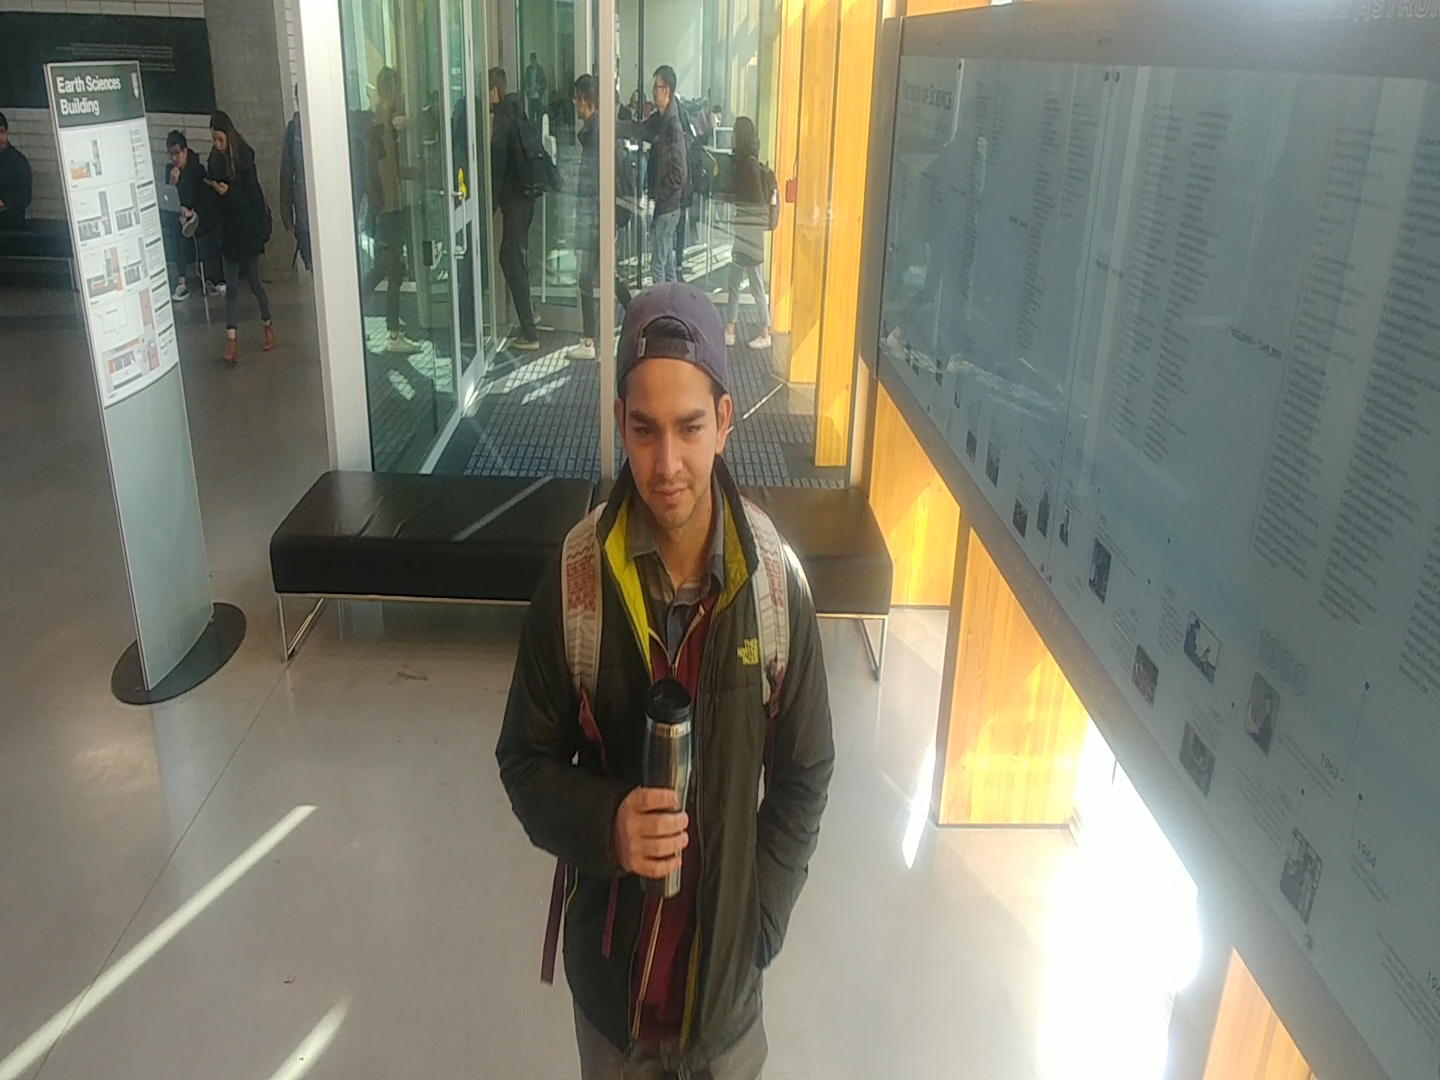face: (595, 276, 752, 539), (196, 103, 250, 167), (638, 56, 687, 118), (160, 124, 204, 178), (563, 68, 603, 128), (724, 110, 765, 163)
human: (487, 273, 859, 1080), (480, 57, 570, 363), (198, 99, 289, 377), (636, 45, 720, 289), (719, 98, 786, 360), (152, 118, 225, 314), (561, 55, 604, 374)
